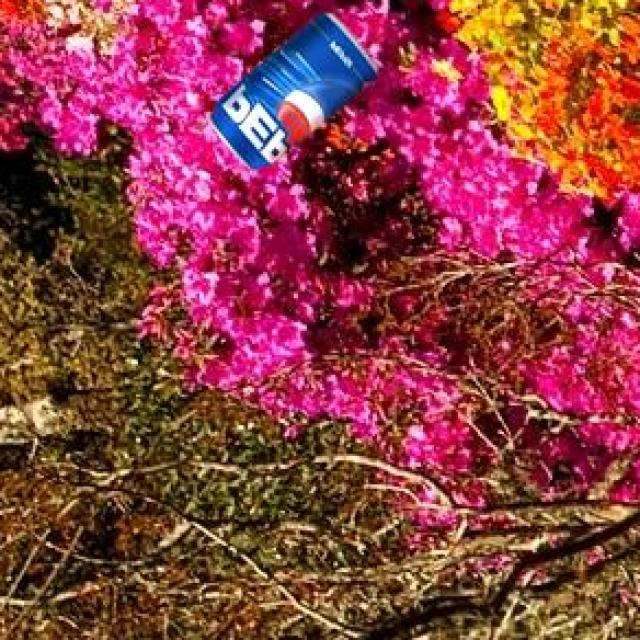logam: (207, 16, 374, 172)
